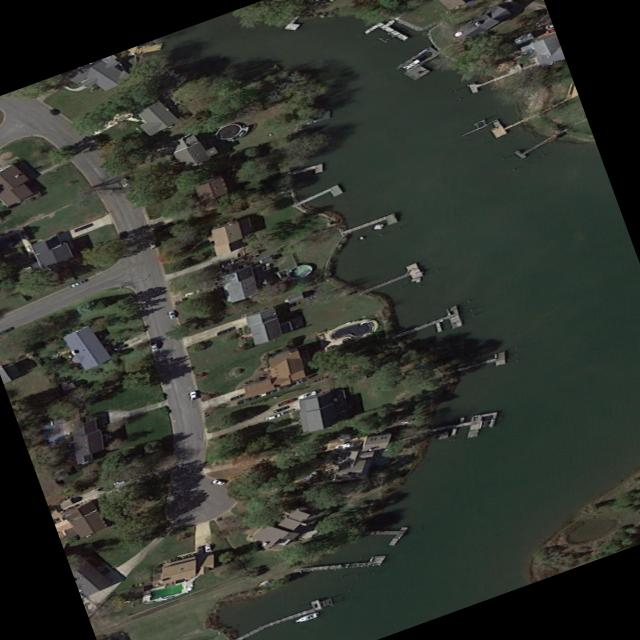ship: (293, 611, 320, 626), (400, 59, 421, 72), (297, 390, 317, 401), (332, 442, 355, 451)
small-vehicle: (70, 222, 94, 234), (236, 395, 258, 406), (271, 405, 289, 415), (276, 398, 294, 407), (69, 279, 85, 289), (118, 178, 131, 190), (215, 328, 232, 337), (264, 413, 280, 422), (149, 339, 159, 353), (117, 231, 128, 243), (183, 289, 199, 297), (45, 109, 59, 118), (188, 390, 198, 402), (167, 309, 176, 322), (210, 479, 226, 486), (146, 240, 156, 251), (281, 408, 294, 416), (203, 543, 212, 554), (0, 328, 12, 336), (113, 345, 125, 352)
